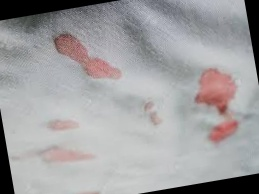blood: (192, 65, 238, 115), (84, 55, 122, 83), (55, 34, 86, 61), (208, 121, 238, 143)
